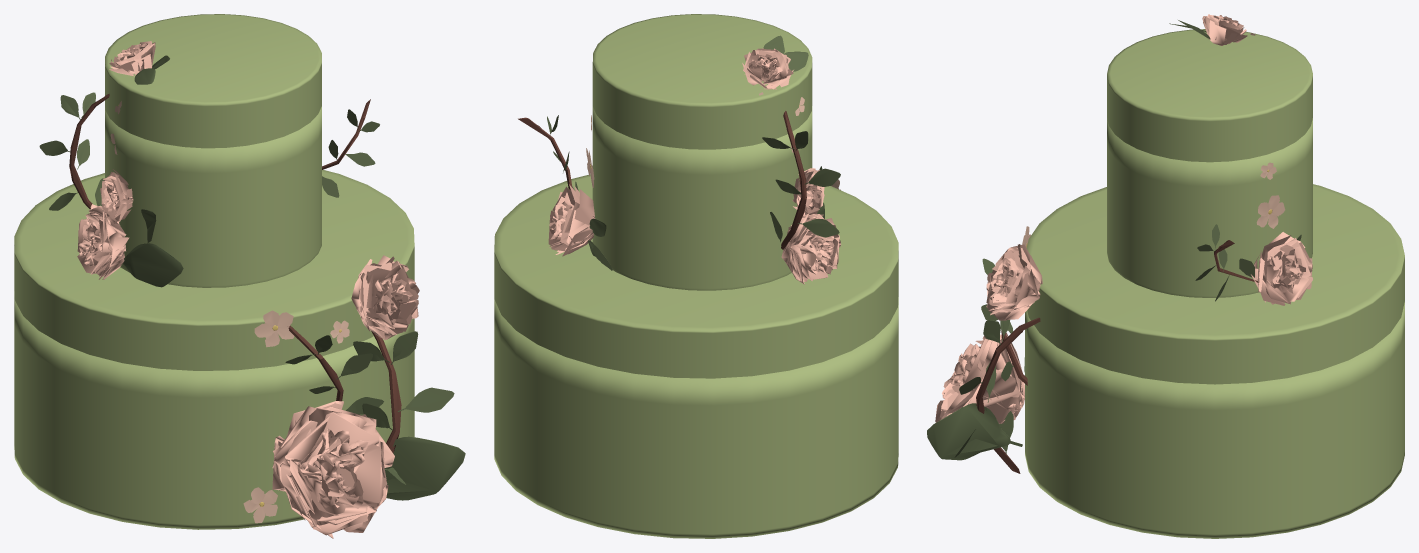
File: 2-tier-pistage-roses-none.glb
3 renders of one model, left to right at view 1: azimuth 30°, elevation 25°; view 2: azimuth 150°, elevation 25°; view 3: azimuth 270°, elevation 25°, orthographic. The views are drawn at different scales.
Visible parts, largest first — view 1: Cylinder.023, Cylinder.013, grid.025, grid.024, Plane.049, Plane.059, grid.026, Plane.056, Plane.058, Plane.052, Plane.045, grid.027 (+3 smaller); view 2: Cylinder.023, Cylinder.013, grid.026, Plane.056, grid.028, grid.014, grid.027, Plane.045; view 3: Cylinder.023, Cylinder.013, grid.025, grid.028, Plane.049, grid.024, Plane.059, Plane.045, grid.014, Plane.058, Sphere.032.
Part boxes in pixels (bbox=[...]): Cylinder.023: bbox=[14, 170, 414, 529]; Cylinder.013: bbox=[105, 14, 321, 287]; grid.025: bbox=[272, 401, 394, 538]; grid.024: bbox=[351, 255, 419, 340]; Plane.049: bbox=[384, 436, 465, 500]; Plane.059: bbox=[353, 331, 454, 484]; grid.026: bbox=[77, 204, 129, 279]; Plane.056: bbox=[39, 92, 109, 210]; Plane.058: bbox=[285, 325, 383, 414]; Plane.052: bbox=[122, 243, 183, 287]; Plane.045: bbox=[322, 99, 379, 197]; grid.027: bbox=[100, 169, 133, 223]; Cylinder.023: bbox=[494, 174, 898, 538]; Cylinder.013: bbox=[592, 14, 812, 290]; grid.026: bbox=[781, 213, 841, 284]; Plane.056: bbox=[762, 111, 840, 249]; grid.028: bbox=[548, 184, 595, 256]; grid.014: bbox=[742, 48, 793, 89]; grid.027: bbox=[792, 168, 824, 219]; Plane.045: bbox=[518, 115, 578, 190]; Cylinder.023: bbox=[1025, 184, 1404, 538]; Cylinder.013: bbox=[1107, 29, 1312, 297]; grid.025: bbox=[935, 328, 1024, 423]; grid.028: bbox=[1251, 232, 1312, 305]; Plane.049: bbox=[927, 403, 1022, 460]; grid.024: bbox=[986, 244, 1042, 320]; Plane.059: bbox=[954, 317, 1040, 473]; Plane.045: bbox=[1195, 224, 1259, 301]; grid.014: bbox=[1202, 14, 1247, 45]; Plane.058: bbox=[981, 258, 1027, 385]; Sphere.032: bbox=[1256, 195, 1285, 228].
Bounding box in the file's own units: 3.4 × 3.99 × 4.11.
